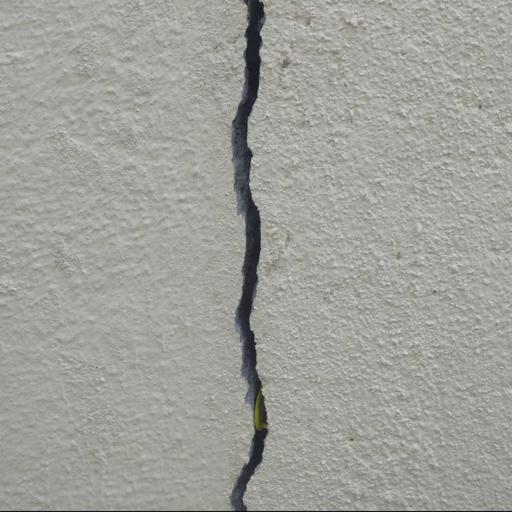major_crack: (211, 0, 317, 512)
